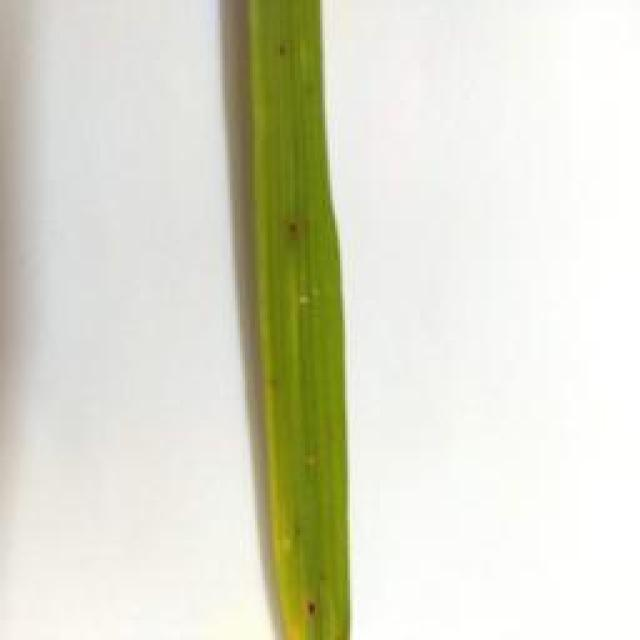Brown_Spot: (266, 20, 305, 72), (276, 207, 316, 248), (299, 590, 327, 631)
